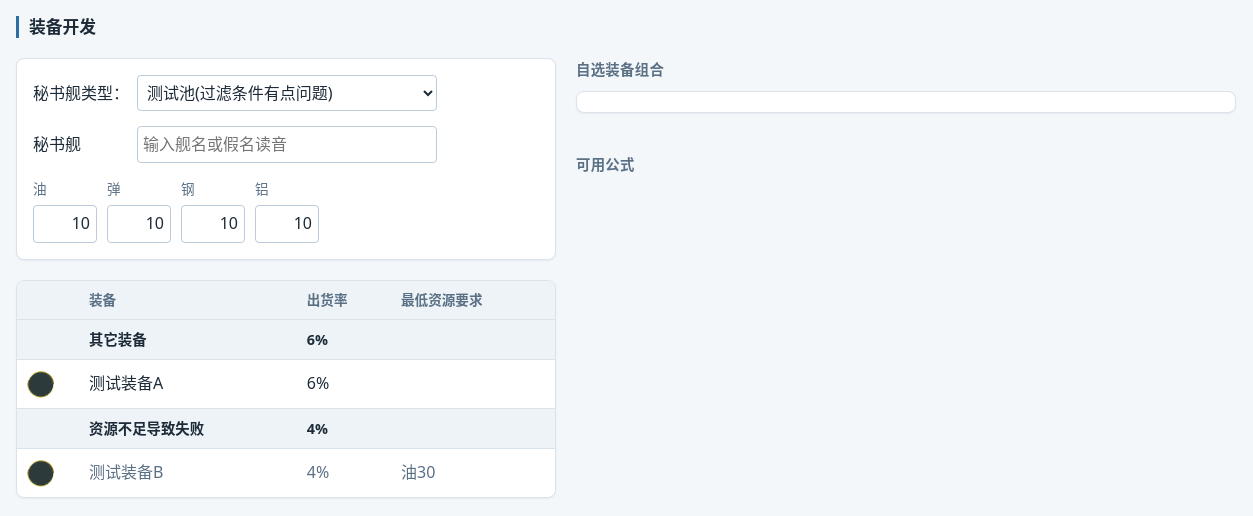
Test: DevelopmentView — H1 rawResources/committedResources 拆分 › 失焦：无条件提交——即使被 blur 的字段本身没变化，其它字段当前持有的越界值也要一并被提交
Expected: the number of rows with class "insufficient-equipment" is 1, [17, 448, 555, 497]
Replace the text in the field with id "bauxite" with "5" at x=287, y=224, box [255, 205, 319, 243]
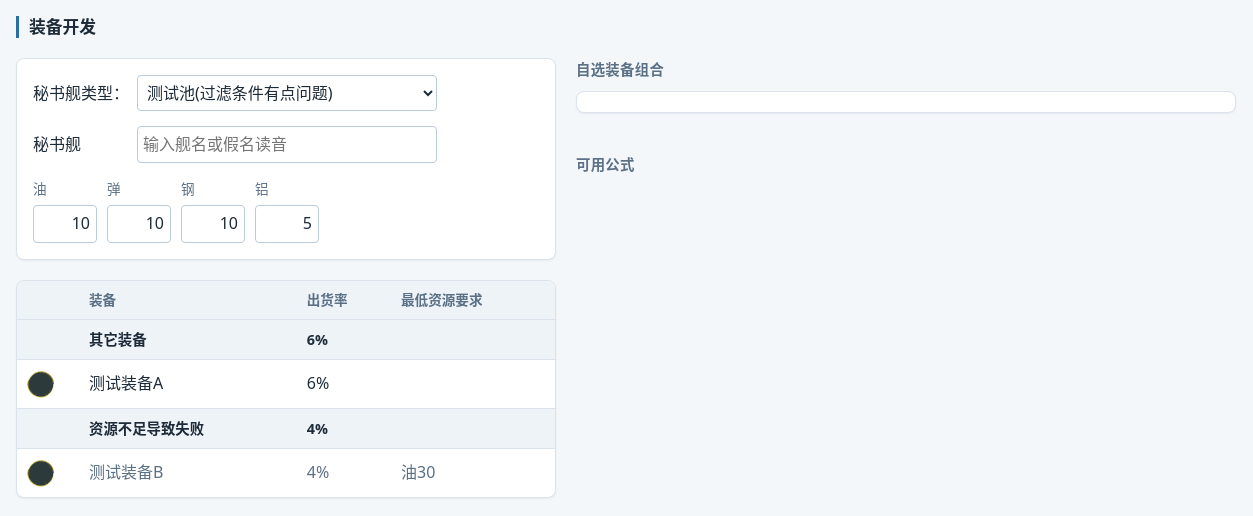
Expected: the number of rows with class "insufficient-equipment" is 1, [17, 448, 555, 497]
Leave the field with id "fuel", box [33, 205, 97, 243]
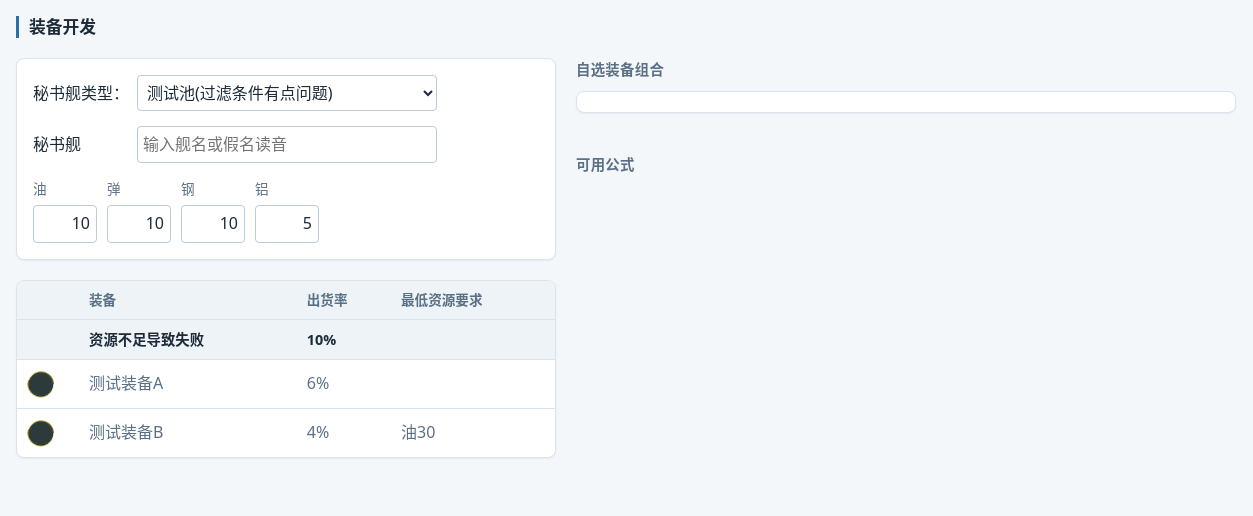
Expected: the number of rows with class "insufficient-equipment" is 2, [17, 359, 555, 408]; [17, 408, 555, 457]
